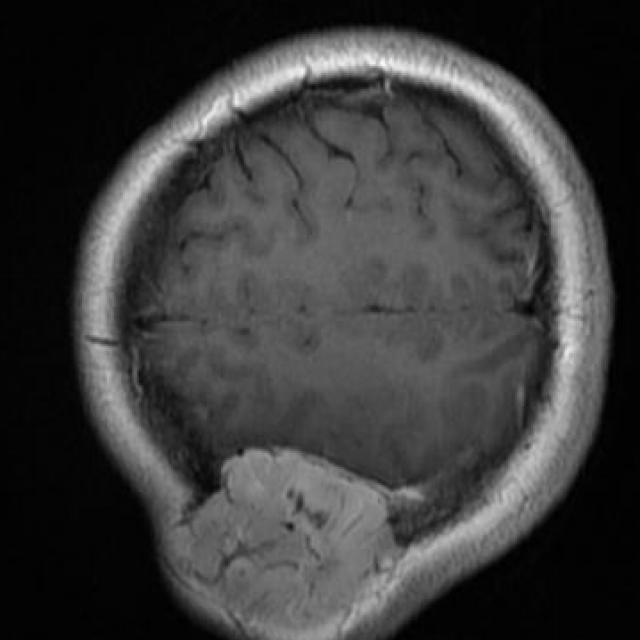meningioma: (191, 449, 394, 628)
